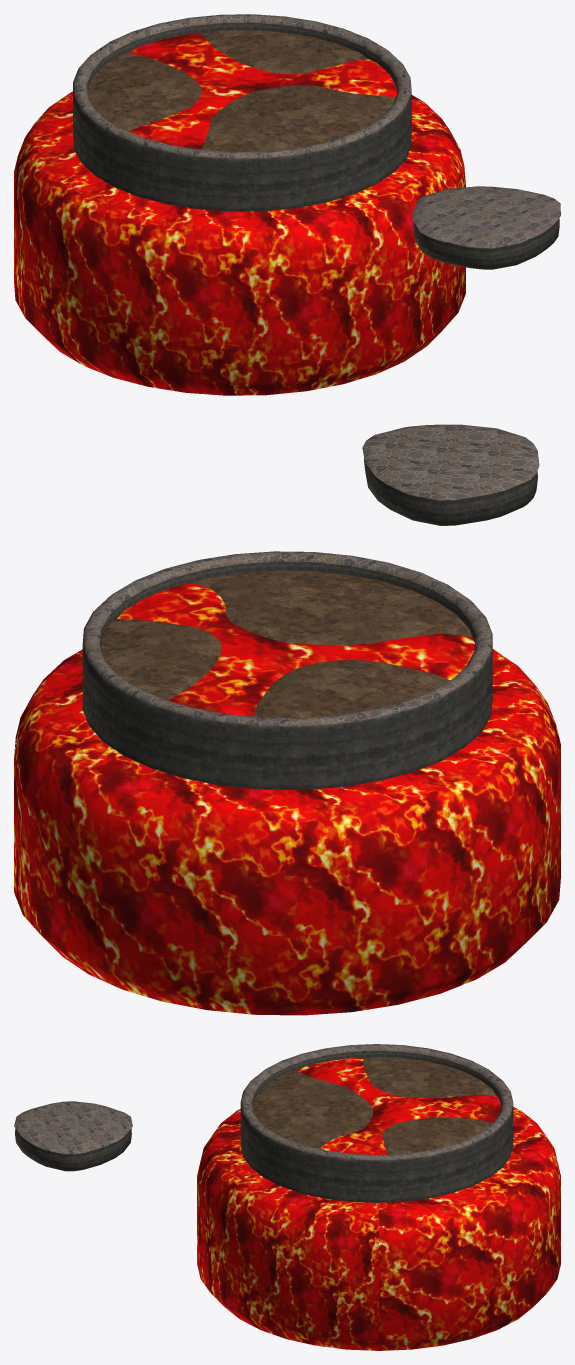
File: BossBegomanPlanet.fbx
The picture shows the model from 3 angles, top to bottom: view 1: azimuth 30°, elevation 25°; view 2: azimuth 150°, elevation 25°; view 3: azimuth 270°, elevation 25°; orthographic projection. The views are drawn at different scales.
Visible parts, largest first — view 1: BossBegomanPlanet; view 2: BossBegomanPlanet; view 3: BossBegomanPlanet.
Part boxes in pixels (x1=…): BossBegomanPlanet: x1=14, y1=14, x2=560, y2=395; BossBegomanPlanet: x1=14, y1=424, x2=560, y2=1015; BossBegomanPlanet: x1=14, y1=1044, x2=560, y2=1350.
Bounding box in the file's own units: 319811 × 196184 × 480668.
